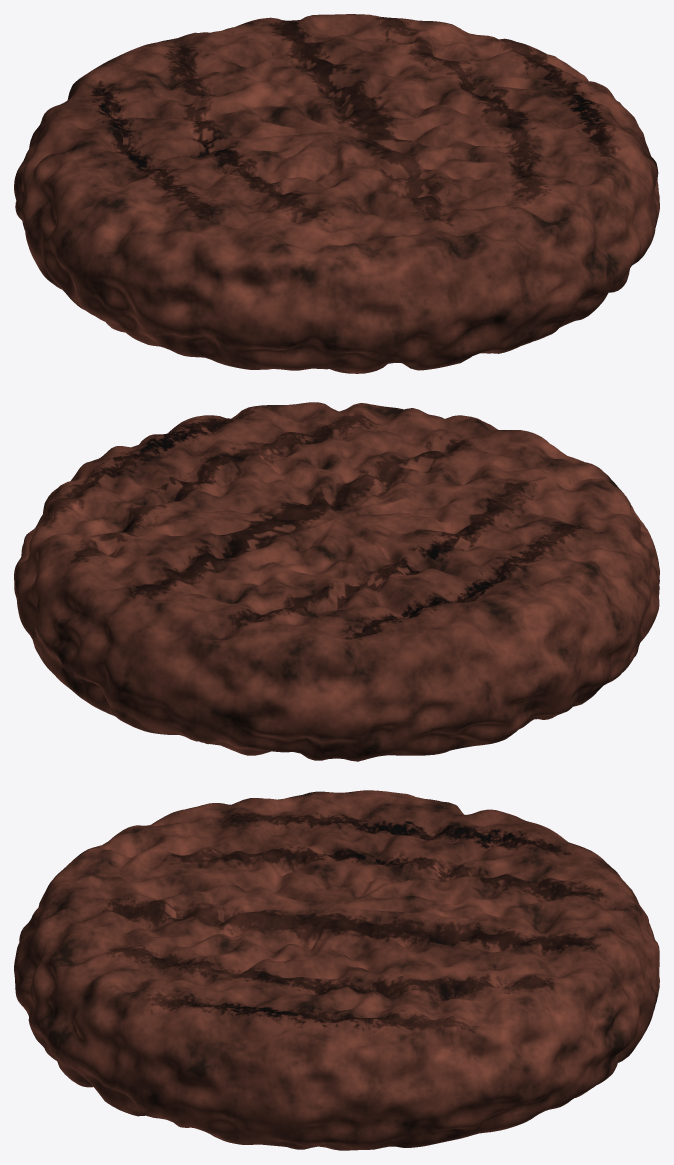
Rendered from ham.obj.
3 views of the same model, one above another, from view 1: azimuth 30°, elevation 25°; view 2: azimuth 150°, elevation 25°; view 3: azimuth 270°, elevation 25° (orthographic).
Visible parts, largest first — view 1: bake; view 2: bake; view 3: bake.
Part boxes in pixels (<box>): bake: <box>14,14,659,373</box>; bake: <box>14,402,659,761</box>; bake: <box>14,790,659,1150</box>.
Size of the model in its own units: 0.2956 by 0.0649 by 0.295.
1 material, 1 textured.
